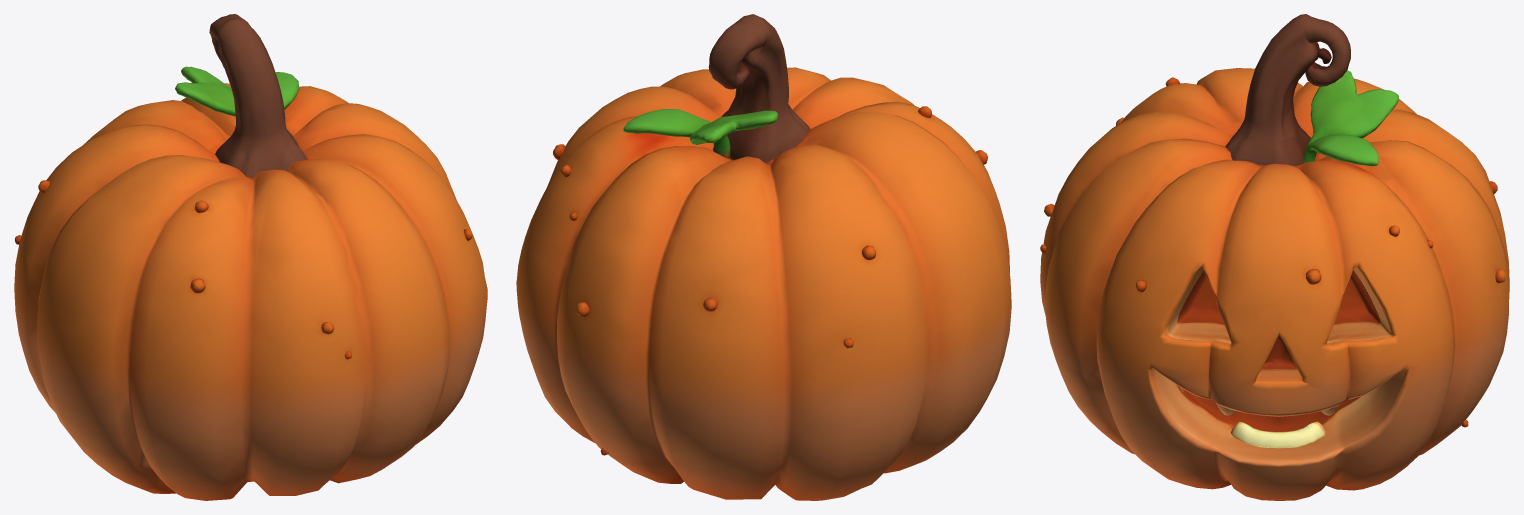
The model's file is r33-pumpkin.glb.
The picture shows the model from 3 angles, left to right: view 1: azimuth 30°, elevation 25°; view 2: azimuth 150°, elevation 25°; view 3: azimuth 270°, elevation 25°; orthographic projection. The views are drawn at different scales.
Visible parts, largest first — view 1: tripo_node_2b1d2133-7cad-4606-899b-95742b626d92; view 2: tripo_node_2b1d2133-7cad-4606-899b-95742b626d92; view 3: tripo_node_2b1d2133-7cad-4606-899b-95742b626d92.
Boxes of the visible parts, box(x1,y1,x2,y2) form: tripo_node_2b1d2133-7cad-4606-899b-95742b626d92: box(14, 14, 487, 500); tripo_node_2b1d2133-7cad-4606-899b-95742b626d92: box(516, 14, 1011, 500); tripo_node_2b1d2133-7cad-4606-899b-95742b626d92: box(1040, 14, 1509, 500).
Bounding box in the file's own units: 0.998 × 0.9941 × 0.9941.
1 material, 1 textured.
